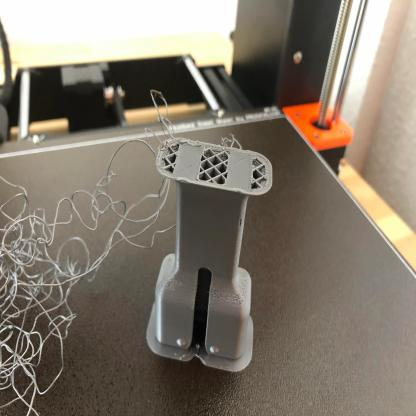fail: (1, 132, 168, 411)
